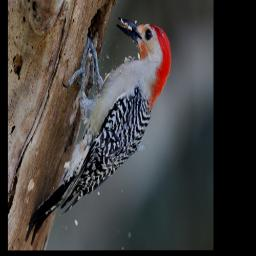Woodpecker: (27, 18, 171, 240)
